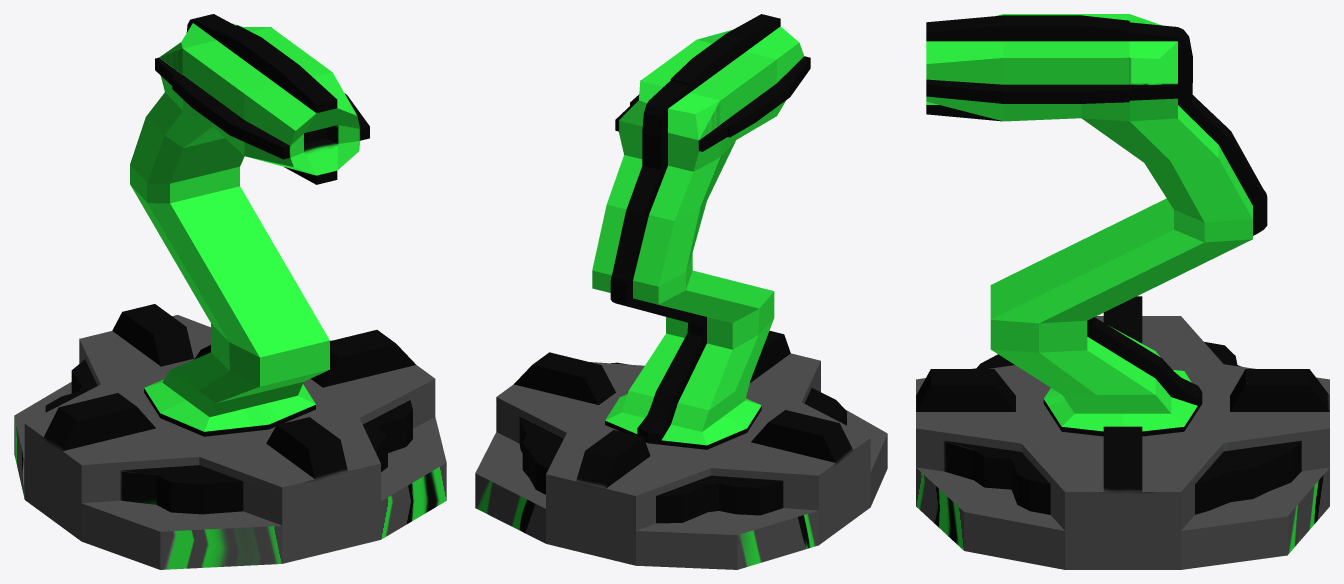
File: Sniper_turret1.fbx
The picture shows the model from 3 angles, left to right: view 1: azimuth 30°, elevation 25°; view 2: azimuth 150°, elevation 25°; view 3: azimuth 270°, elevation 25°; orthographic projection. The views are drawn at different scales.
Parts seen in each view (by area): view 1: Base, Head; view 2: Base, Head; view 3: Base, Head.
Boxes of the visible parts, box(x1,y1,x2,y2) form: Base: box(14, 304, 446, 569); Head: box(130, 14, 369, 436); Base: box(475, 330, 887, 569); Head: box(592, 14, 810, 449); Base: box(916, 296, 1329, 569); Head: box(926, 14, 1267, 436).
Size of the model in its own units: 239 by 293 by 238.
